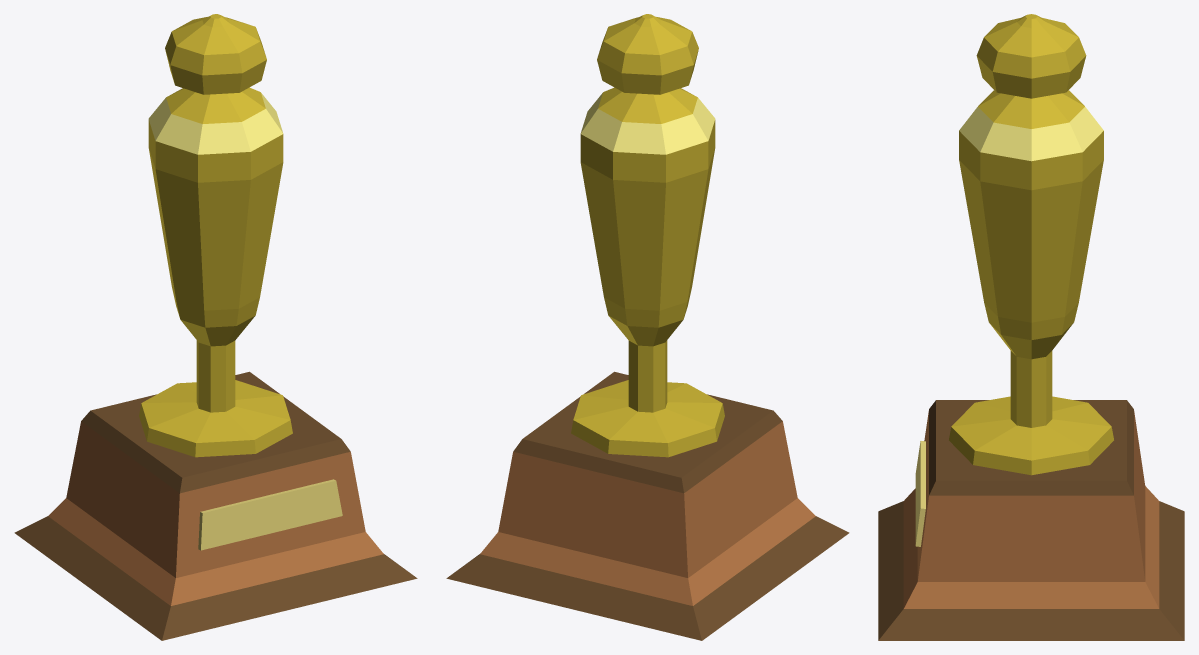
Rendered from Trophy_4.fbx.
The picture shows the model from 3 angles, left to right: view 1: azimuth 30°, elevation 25°; view 2: azimuth 150°, elevation 25°; view 3: azimuth 270°, elevation 25°; orthographic projection. The views are drawn at different scales.
Visible parts, largest first — view 1: Trophy; view 2: Trophy; view 3: Trophy.
Boxes of the visible parts, <box> form: Trophy: <box>14,14,417,640</box>; Trophy: <box>446,14,849,640</box>; Trophy: <box>878,14,1184,640</box>.
Size of the model in its own units: 299 by 603 by 299.
